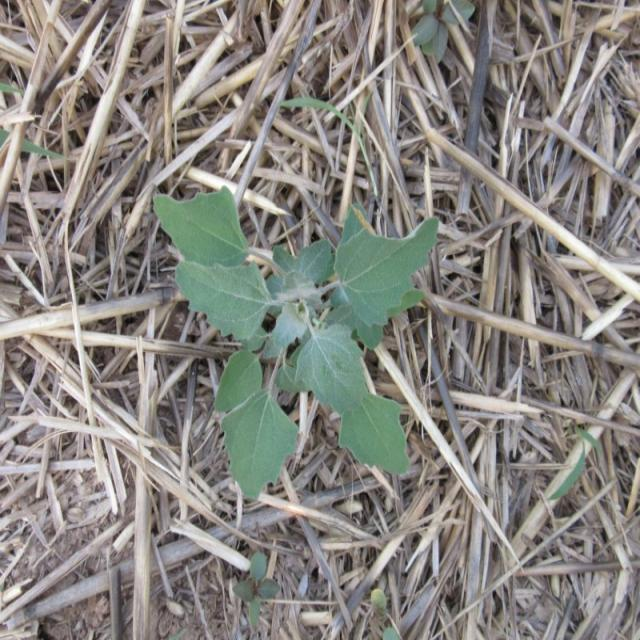ca: (152, 192, 438, 507)
